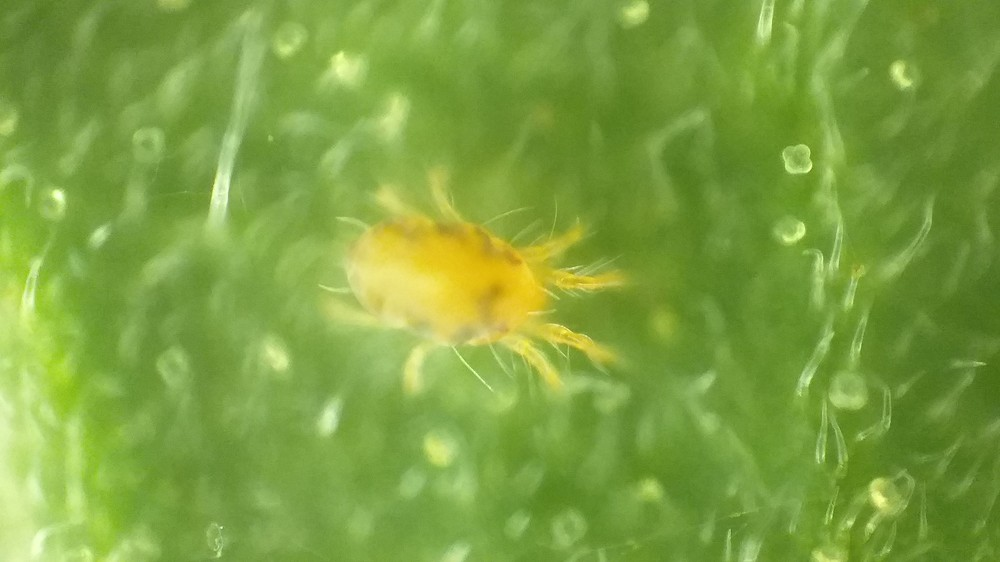Aracnido Rojo: (317, 168, 635, 407)
